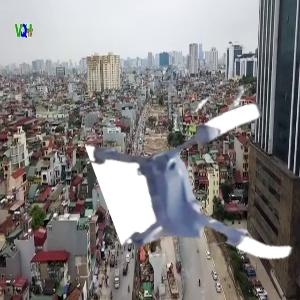drone: (111, 105, 300, 294)
